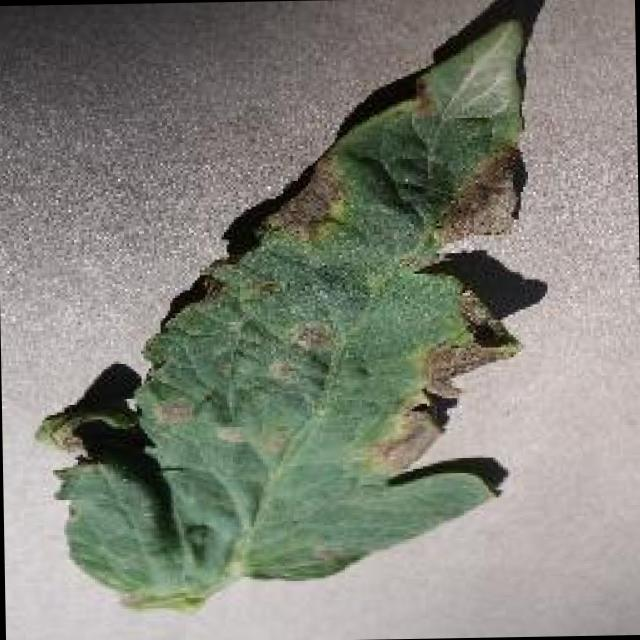Tomato_Early_Blight: (37, 44, 535, 590)
